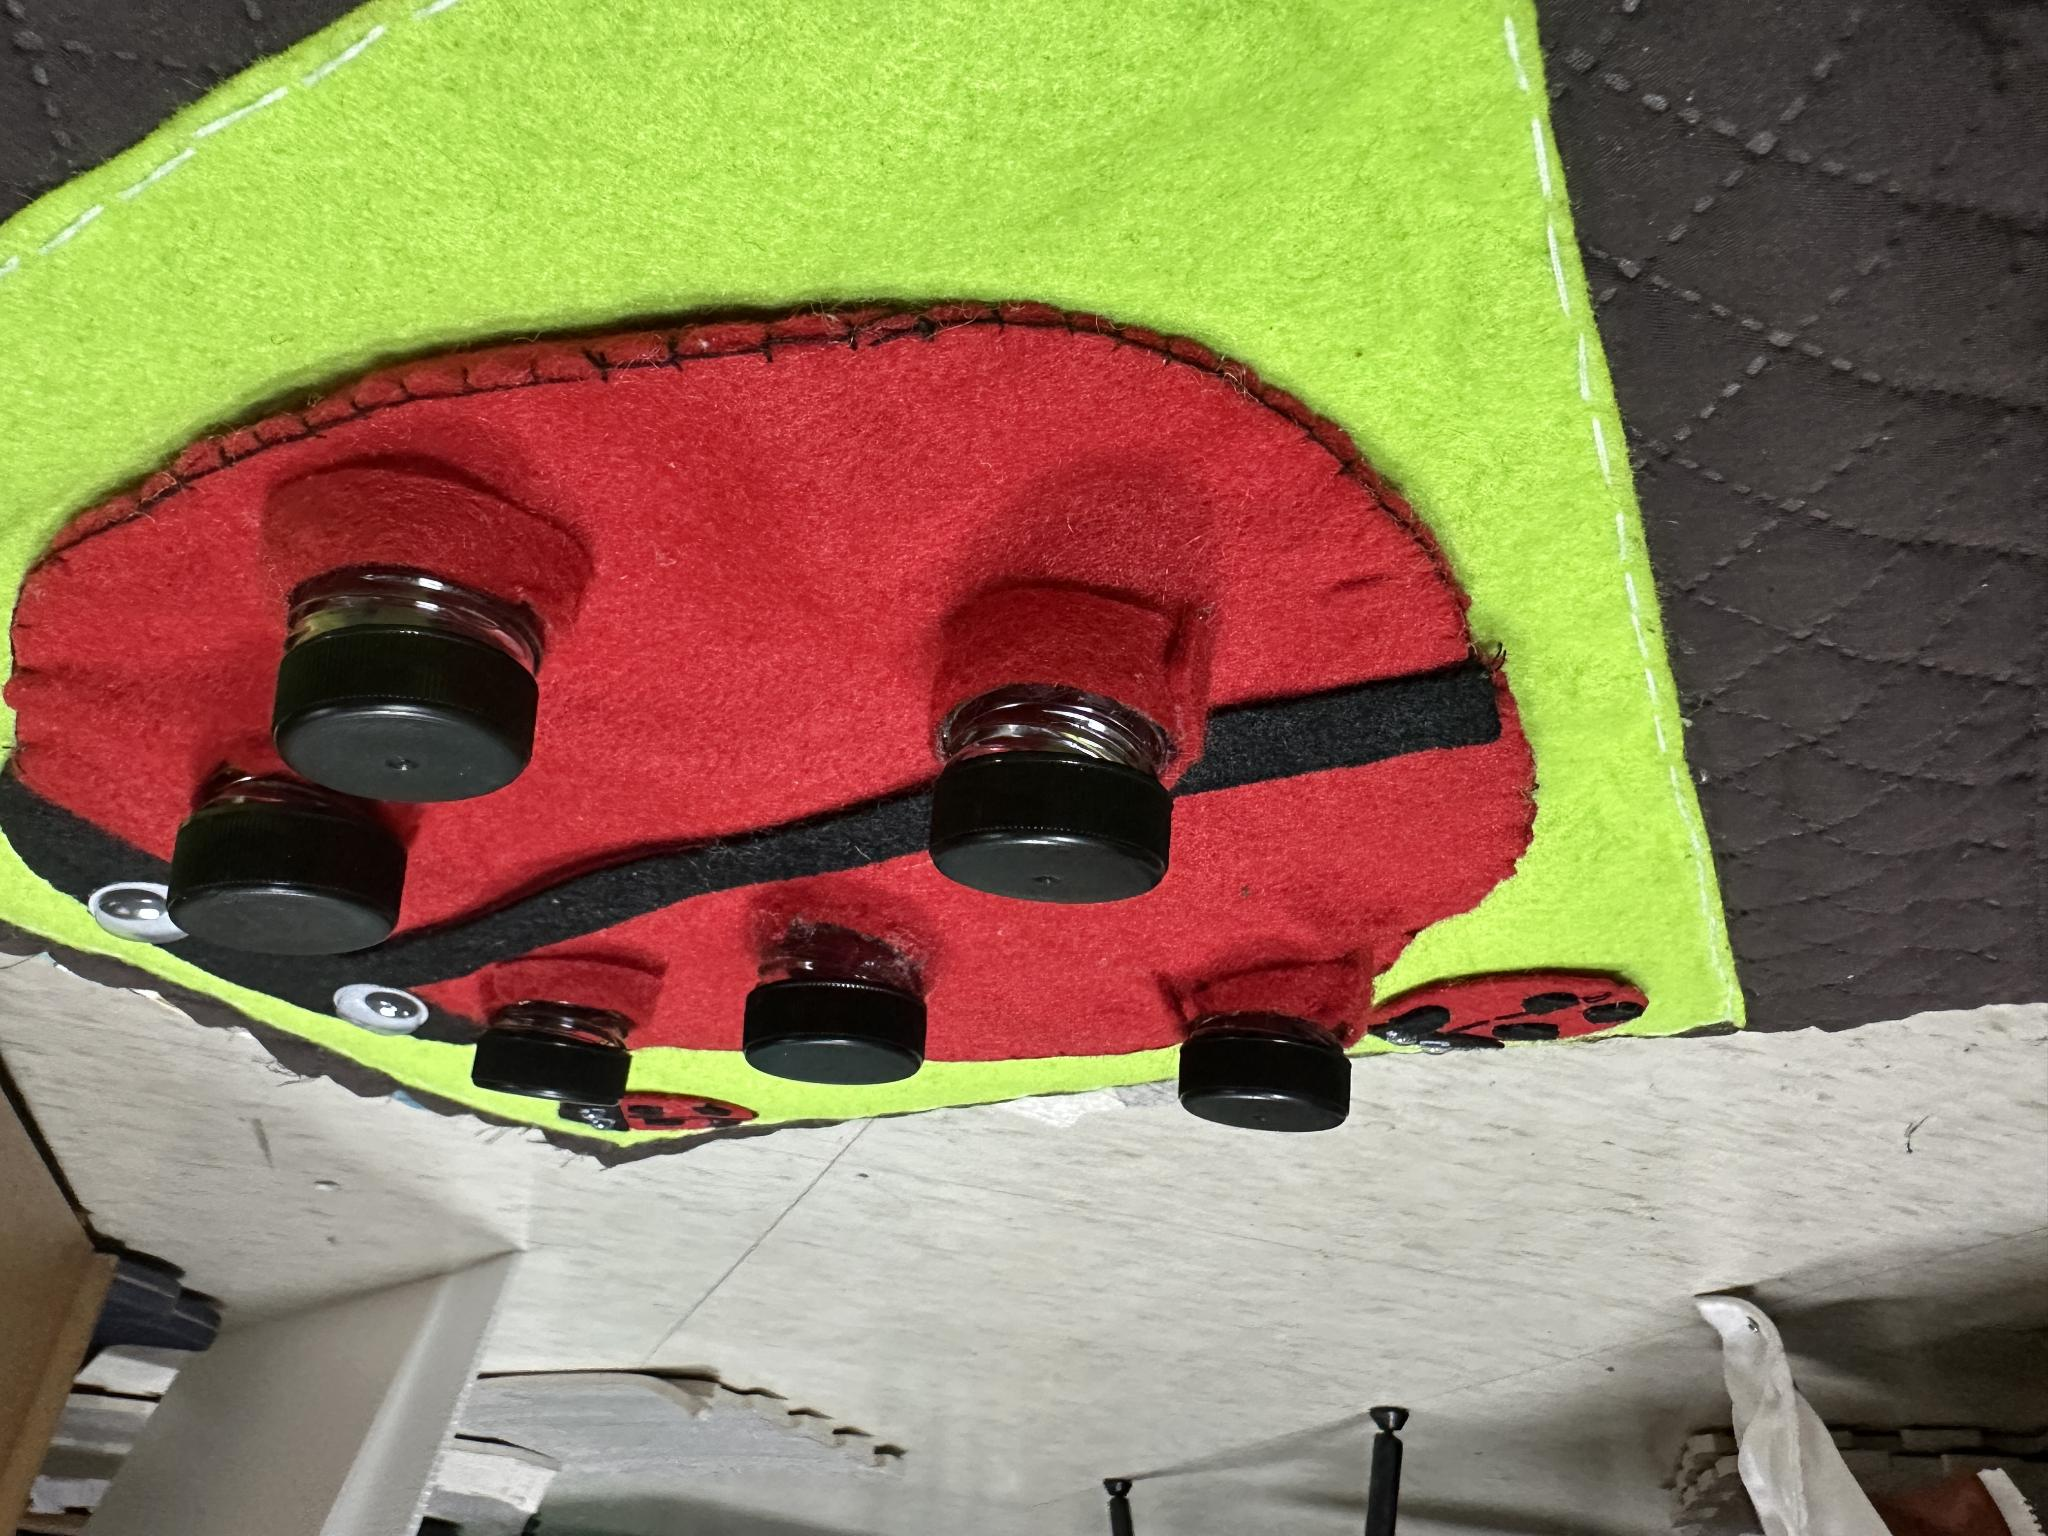cap_ng: (261, 444, 595, 807), (918, 571, 1235, 918), (158, 750, 426, 958), (729, 895, 945, 1096), (468, 949, 664, 1121)
cap_ok: (1161, 958, 1388, 1147)
